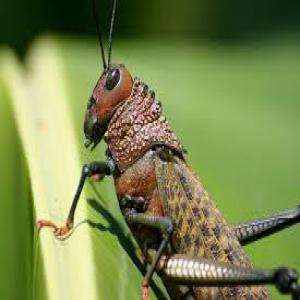locust: (74, 34, 292, 299)
